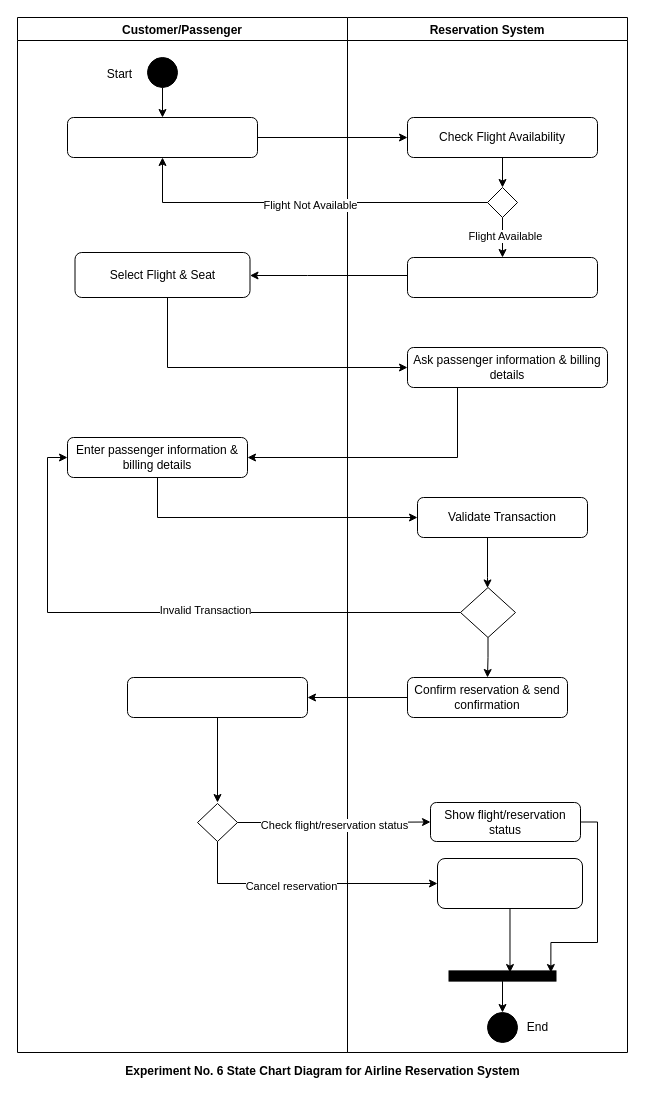
The diagram is 645 pixels wide and 1104 high, and some of its shapes have lost their labels. The box of each missing label's shape, as (x1, y1, x2, y2) in pixels:
Cancel reservation and send cancellation confirmation: (436, 858, 582, 908)
Check and provide availability & proceed to passenger: (406, 256, 598, 298)
Receive confirmation: (126, 676, 308, 718)
Search Flight: (66, 116, 258, 158)
